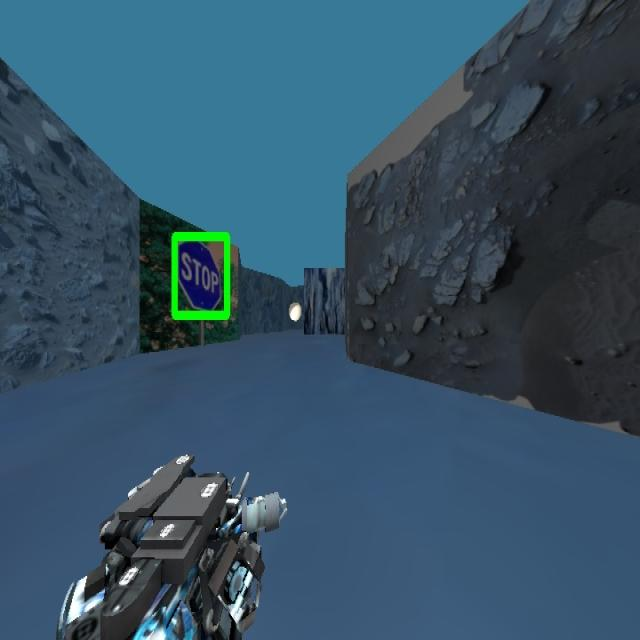Circle: (288, 302, 301, 322)
Diamon: (170, 230, 231, 322)
